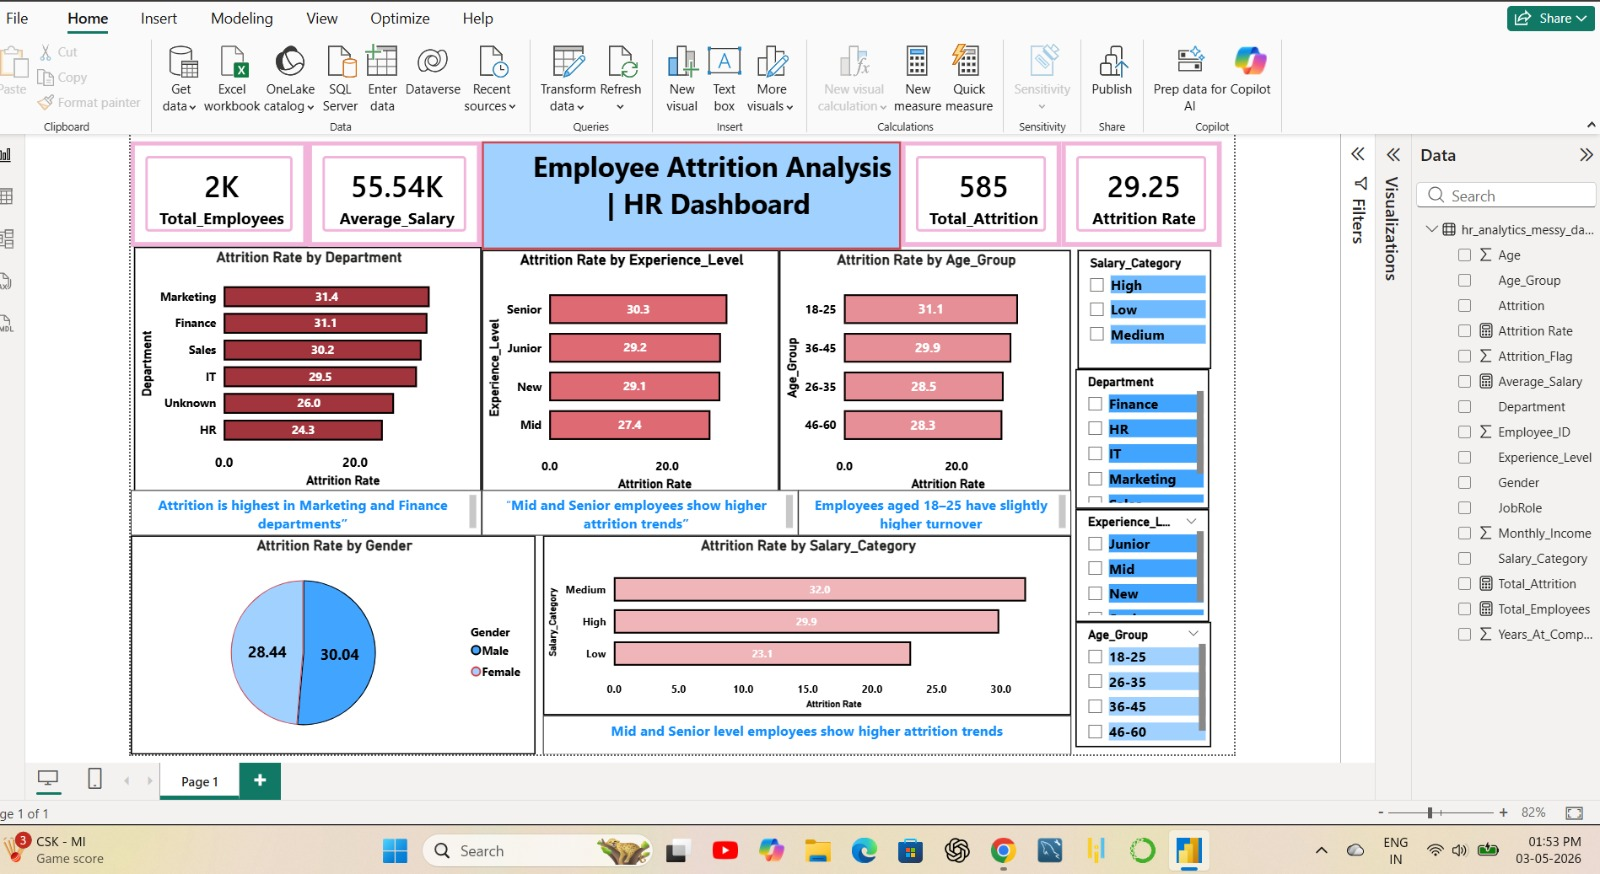

Layout of this report page (visuals, bound fields, positions):
{"tool":"powerbi","page":{"name":"Page 1","canvas":[1280,720],"ordinal":0},"visuals":[{"type":"textbox","box":[407.2,8.6,486.7,126],"z":0},{"type":"cardVisual","fields":{"Data":["hr_analytics_messy_dataset.Total_Employees"]},"box":[0,8.6,205.4,122.3],"z":1000},{"type":"clusteredBarChart","fields":{"Category":["hr_analytics_messy_dataset.Department"],"Y":["hr_analytics_messy_dataset.Attrition Rate"]},"box":[3.7,130.8,403.5,287.4],"z":2000},{"type":"clusteredBarChart","fields":{"Category":["hr_analytics_messy_dataset.Experience_Level"],"Y":["hr_analytics_messy_dataset.Attrition Rate"]},"box":[407.2,134.5,344.8,287.4],"z":3000},{"type":"clusteredBarChart","fields":{"Category":["hr_analytics_messy_dataset.Salary_Category"],"Y":["hr_analytics_messy_dataset.Attrition Rate"]},"box":[478.1,465.9,612.6,209.1],"z":4000},{"type":"pieChart","fields":{"Category":["hr_analytics_messy_dataset.Gender"],"Y":["hr_analytics_messy_dataset.Attrition Rate"]},"box":[0,465.9,469.6,254.3],"z":5000},{"type":"slicer","fields":{"Values":["hr_analytics_messy_dataset.Department"]},"box":[1095.7,272.7,155.3,162.6],"z":6000},{"type":"slicer","fields":{"Values":["hr_analytics_messy_dataset.Age_Group"]},"box":[1095.7,566.2,157.7,145.5],"z":7000},{"type":"slicer","fields":{"Values":["hr_analytics_messy_dataset.Salary_Category"]},"box":[1098.1,134.5,155.3,138.2],"z":8000},{"type":"slicer","fields":{"Values":["hr_analytics_messy_dataset.Experience_Level"]},"box":[1095.7,435.3,155.3,130.8],"z":9000},{"type":"clusteredBarChart","fields":{"Category":["hr_analytics_messy_dataset.Age_Group"],"Y":["hr_analytics_messy_dataset.Attrition Rate"]},"box":[752,134.5,338.7,287.4],"z":10000},{"type":"cardVisual","fields":{"Data":["hr_analytics_messy_dataset.Total_Attrition"]},"box":[893.9,8.6,185.9,122.3],"z":11000},{"type":"cardVisual","fields":{"Data":["hr_analytics_messy_dataset.Average_Salary"]},"box":[205.4,8.6,201.8,122.3],"z":12000},{"type":"cardVisual","fields":{"Data":["hr_analytics_messy_dataset.Attrition Rate"]},"box":[1079.8,8.6,185.9,122.3],"z":13000},{"type":"textbox","box":[0,413.3,407.2,52.6],"z":14000},{"type":"textbox","box":[407.2,413.3,366.8,52.6],"z":15000},{"type":"textbox","box":[774.1,413.3,316.7,52.6],"z":16000},{"type":"textbox","box":[478.1,675,612.6,45.2],"z":17000}]}

Visuals, with their boxes on the page's 1280x720 design canvas (x1, y1, x2, y2). These are canvas units, not pixel positions in the 1600x874 screenshot, which may show the page scaled, cropped or inside an application window:
textbox: x1=407, y1=9, x2=894, y2=135
cardVisual - hr_analytics_messy_dataset.Total_Employees: x1=0, y1=9, x2=205, y2=131
clusteredBarChart - hr_analytics_messy_dataset.Department x hr_analytics_messy_dataset.Attrition Rate: x1=4, y1=131, x2=407, y2=418
clusteredBarChart - hr_analytics_messy_dataset.Experience_Level x hr_analytics_messy_dataset.Attrition Rate: x1=407, y1=134, x2=752, y2=422
clusteredBarChart - hr_analytics_messy_dataset.Salary_Category x hr_analytics_messy_dataset.Attrition Rate: x1=478, y1=466, x2=1091, y2=675
pieChart - hr_analytics_messy_dataset.Gender x hr_analytics_messy_dataset.Attrition Rate: x1=0, y1=466, x2=470, y2=720
slicer - hr_analytics_messy_dataset.Department: x1=1096, y1=273, x2=1251, y2=435
slicer - hr_analytics_messy_dataset.Age_Group: x1=1096, y1=566, x2=1253, y2=712
slicer - hr_analytics_messy_dataset.Salary_Category: x1=1098, y1=134, x2=1253, y2=273
slicer - hr_analytics_messy_dataset.Experience_Level: x1=1096, y1=435, x2=1251, y2=566
clusteredBarChart - hr_analytics_messy_dataset.Age_Group x hr_analytics_messy_dataset.Attrition Rate: x1=752, y1=134, x2=1091, y2=422
cardVisual - hr_analytics_messy_dataset.Total_Attrition: x1=894, y1=9, x2=1080, y2=131
cardVisual - hr_analytics_messy_dataset.Average_Salary: x1=205, y1=9, x2=407, y2=131
cardVisual - hr_analytics_messy_dataset.Attrition Rate: x1=1080, y1=9, x2=1266, y2=131
textbox: x1=0, y1=413, x2=407, y2=466
textbox: x1=407, y1=413, x2=774, y2=466
textbox: x1=774, y1=413, x2=1091, y2=466
textbox: x1=478, y1=675, x2=1091, y2=720
